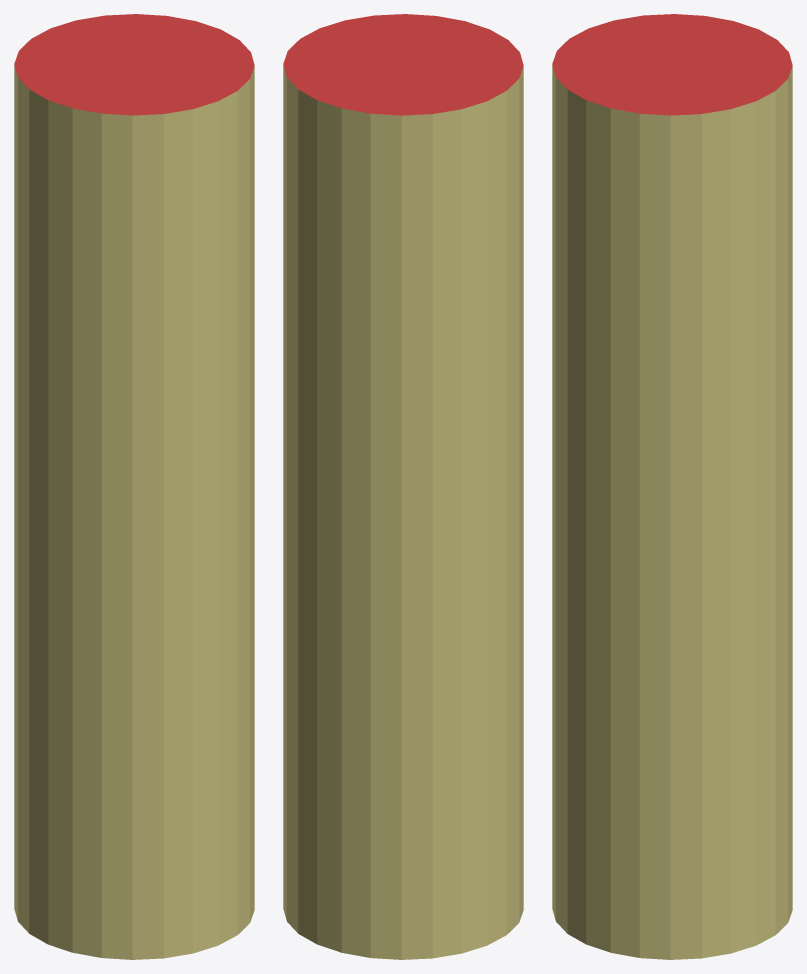
3 renders of one model, left to right at view 1: azimuth 30°, elevation 25°; view 2: azimuth 150°, elevation 25°; view 3: azimuth 270°, elevation 25°, orthographic.
Bounding box in the file's own units: 2.47 × 2.47 × 9.56.
